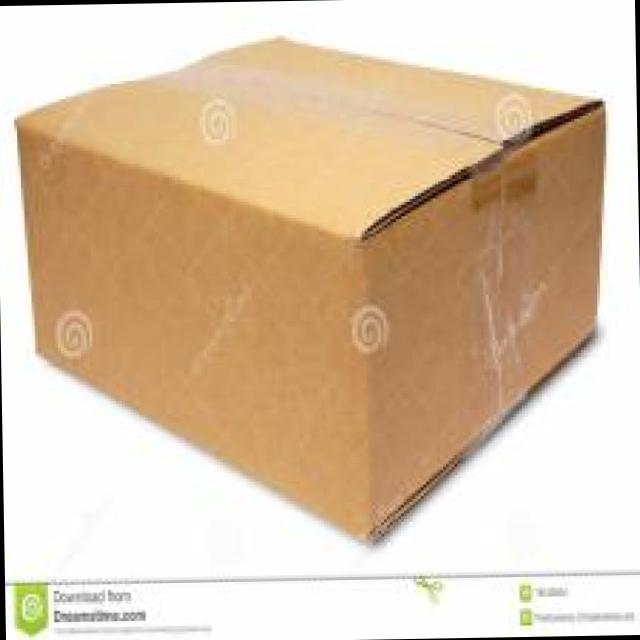box: (14, 35, 608, 549)
